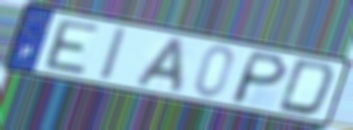0: (193, 44, 237, 100)
A: (131, 35, 185, 96)
D: (274, 57, 339, 118)
E: (43, 18, 103, 77)
I: (98, 25, 130, 83)
P: (227, 49, 291, 107)
